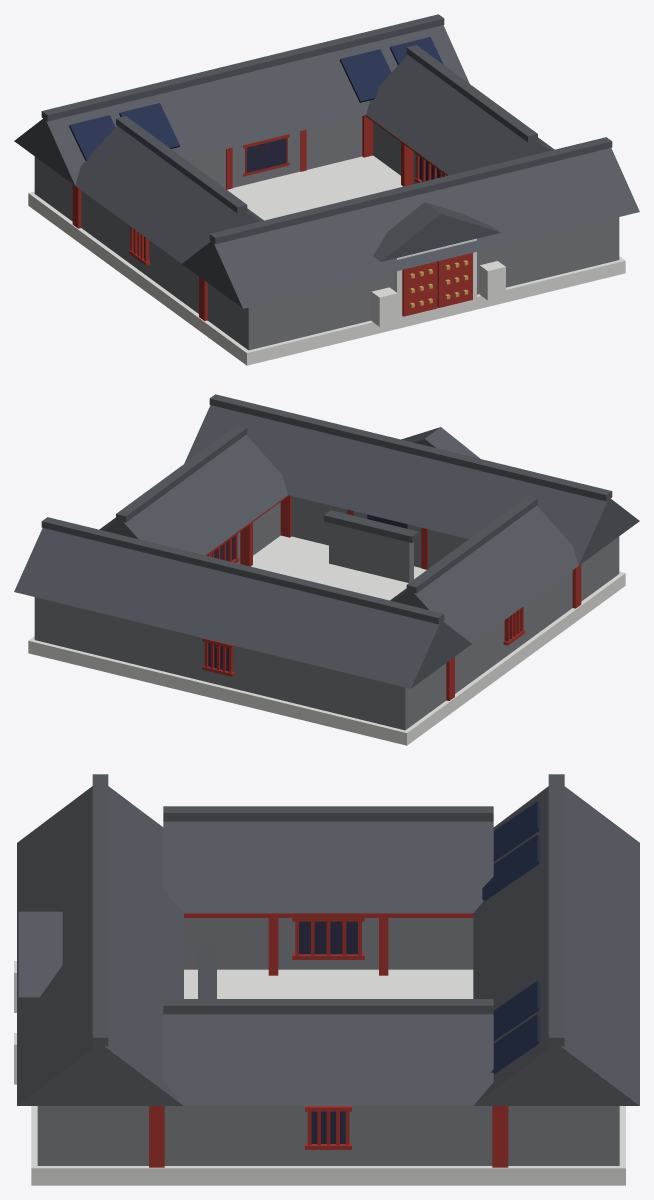
The model's file is house-2x2-1f-siheyuan-a-solar.glb.
The picture shows the model from 3 angles, top to bottom: view 1: azimuth 30°, elevation 25°; view 2: azimuth 150°, elevation 25°; view 3: azimuth 270°, elevation 25°; orthographic projection. The views are drawn at different scales.
Visible parts, largest first — view 1: house-2x2-1f-siheyuan-a-solar; view 2: house-2x2-1f-siheyuan-a-solar; view 3: house-2x2-1f-siheyuan-a-solar.
Boxes of the visible parts, x1,y1,x2,y2 form: house-2x2-1f-siheyuan-a-solar: [14, 14, 639, 365]; house-2x2-1f-siheyuan-a-solar: [14, 394, 639, 745]; house-2x2-1f-siheyuan-a-solar: [14, 774, 639, 1185].
Size of the model in its own units: 1.98 by 0.54 by 1.99.
1 material, 1 textured.
